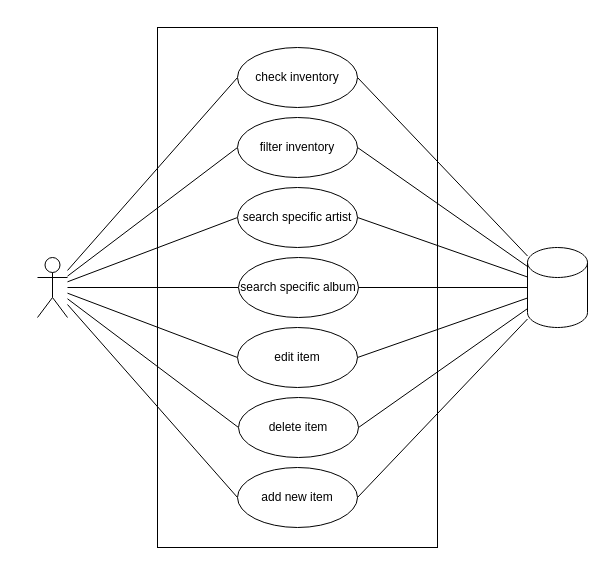
The diagram is 614 pixels wide and 574 high, and some of its shapes have lost their labels. Each missing label, with the centre of its shape:
"RECORD SHOP" goes at (x=557, y=287).
"store manager" goes at (x=52, y=287).
